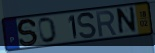1: (68, 15, 79, 40)
N: (117, 6, 138, 37)
O: (37, 16, 58, 44)
R: (95, 9, 118, 38)
S: (16, 18, 40, 47), (76, 11, 98, 40)
